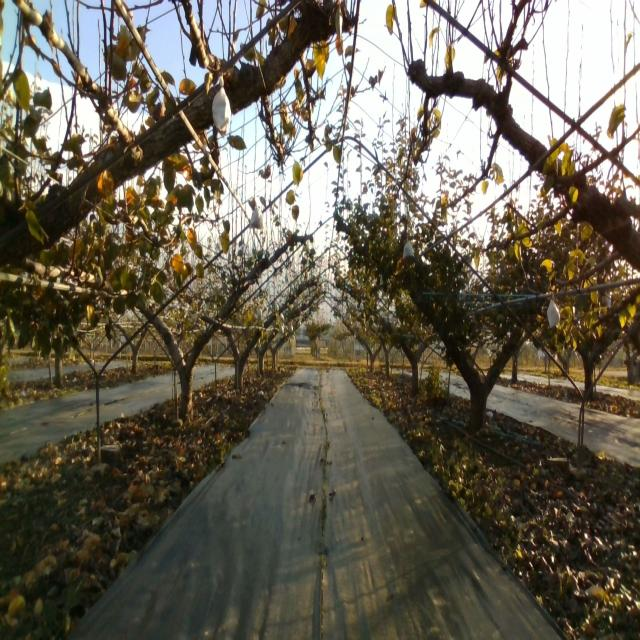pearbags: (211, 76, 232, 141), (546, 299, 561, 329), (248, 207, 264, 229), (401, 238, 415, 260)
